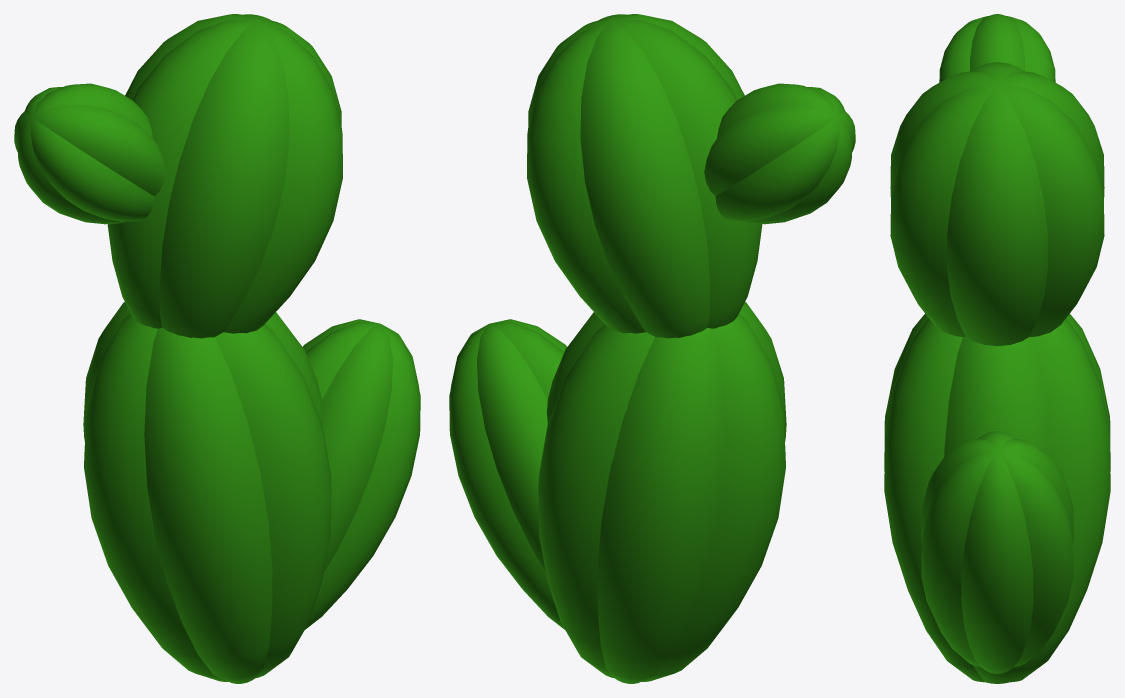
File: Cacti C.dae
3 views of the same model, side by side, from view 1: azimuth 30°, elevation 25°; view 2: azimuth 150°, elevation 25°; view 3: azimuth 270°, elevation 25° (orthographic). The views are drawn at different scales.
Parts seen in each view (by area): view 1: Sphere; view 2: Sphere; view 3: Sphere.
Boxes of the visible parts, <box> form: Sphere: <box>14,14,420,683</box>; Sphere: <box>449,14,855,683</box>; Sphere: <box>884,14,1110,683</box>.
Bounding box in the file's own units: 14.22 × 22.52 × 7.58.
Materials: 1 (1 with a texture image).
